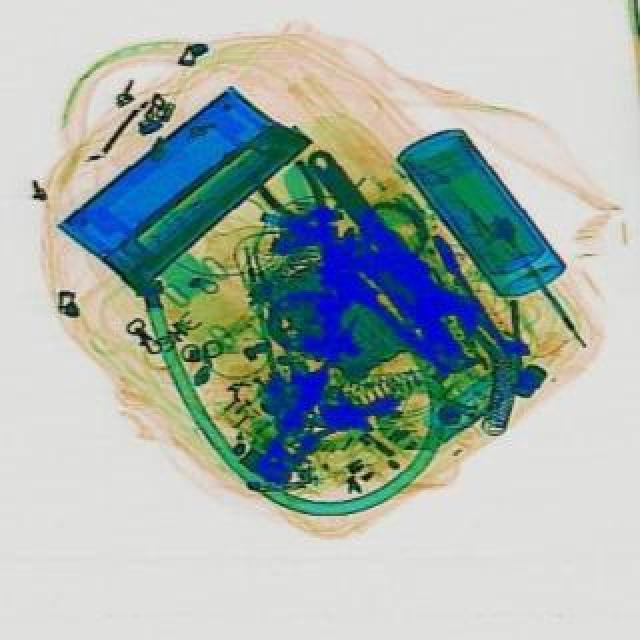scissors: (292, 138, 498, 364)
wrench: (250, 154, 360, 272)
